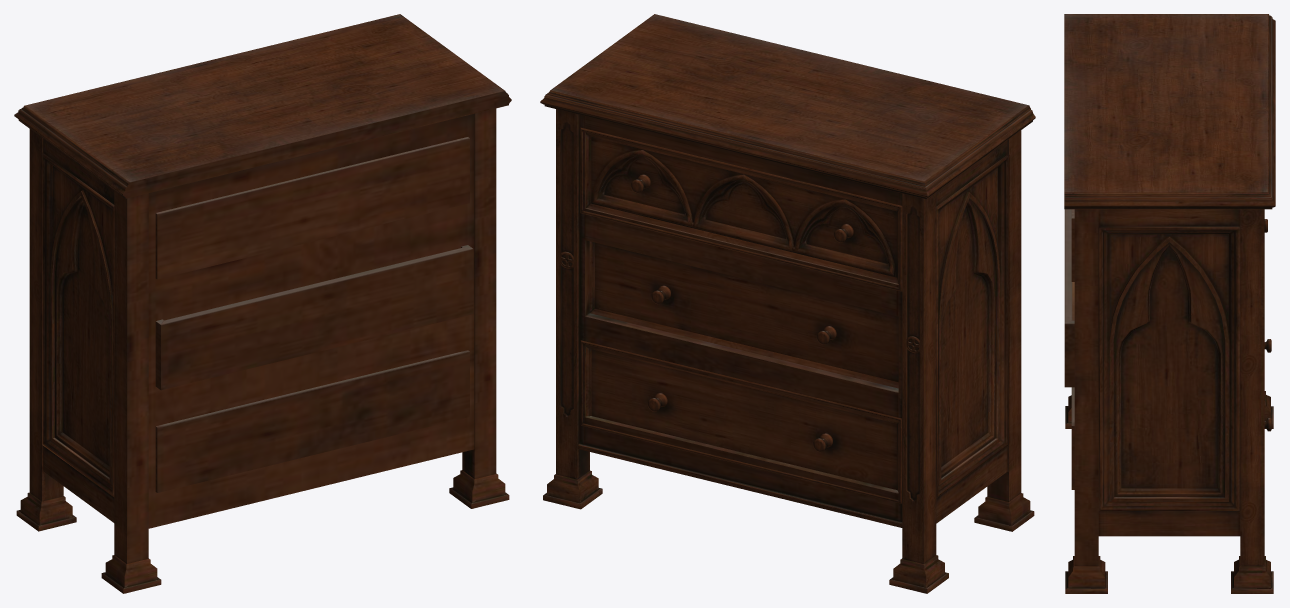
Rendered from GothicCommode_01.glb.
The picture shows the model from 3 angles, left to right: view 1: azimuth 30°, elevation 25°; view 2: azimuth 150°, elevation 25°; view 3: azimuth 270°, elevation 25°; orthographic projection. The views are drawn at different scales.
Visible parts, largest first — view 1: GothicCommode_01; view 2: GothicCommode_01; view 3: GothicCommode_01.
Boxes of the visible parts, left/top/right/bottom form: GothicCommode_01: left=14, top=14, right=511, bottom=593; GothicCommode_01: left=540, top=14, right=1035, bottom=593; GothicCommode_01: left=1064, top=14, right=1275, bottom=593.
Bounding box in the file's own units: 1.2 × 1.21 × 0.5807.
Materials: 1 (1 with a texture image).
